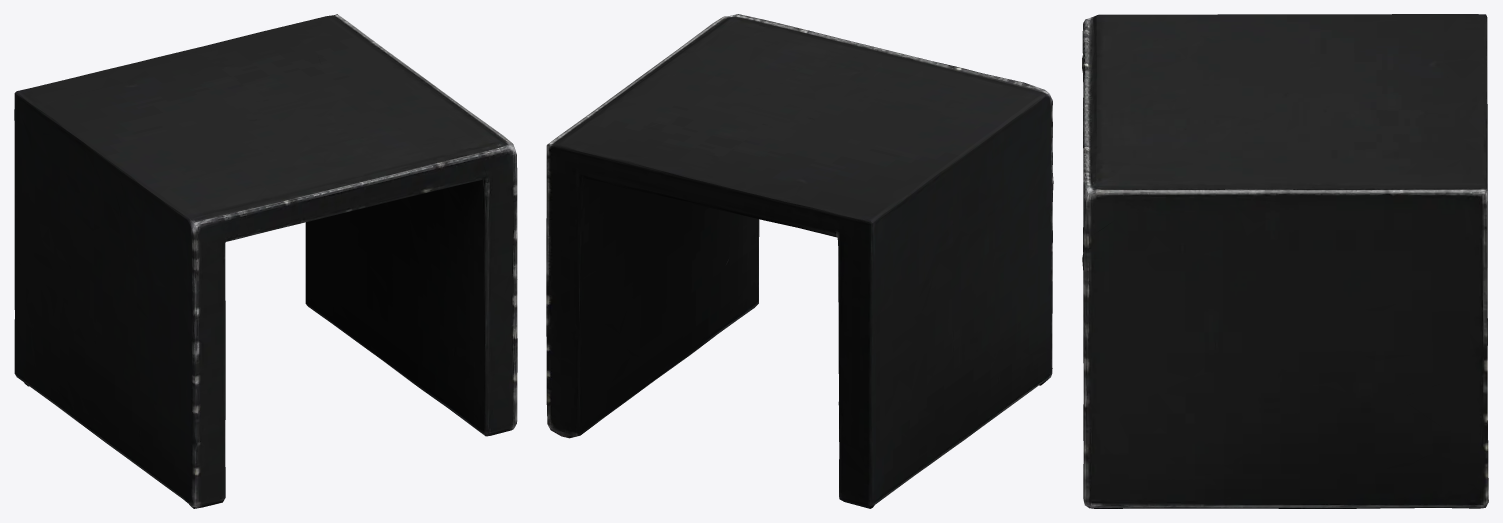
The model's file is ast_a50c067b4bee.glb.
3 renders of one model, left to right at view 1: azimuth 30°, elevation 25°; view 2: azimuth 150°, elevation 25°; view 3: azimuth 270°, elevation 25°, orthographic. The views are drawn at different scales.
Parts seen in each view (by area): view 1: geometry_0; view 2: geometry_0; view 3: geometry_0.
Part boxes in pixels (left/top/right/bottom): geometry_0: left=14, top=14, right=517, bottom=508; geometry_0: left=546, top=14, right=1053, bottom=508; geometry_0: left=1082, top=14, right=1488, bottom=508.
Bounding box in the file's own units: 0.3344 × 0.2885 × 0.324.
Materials: 1 (1 with a texture image).
